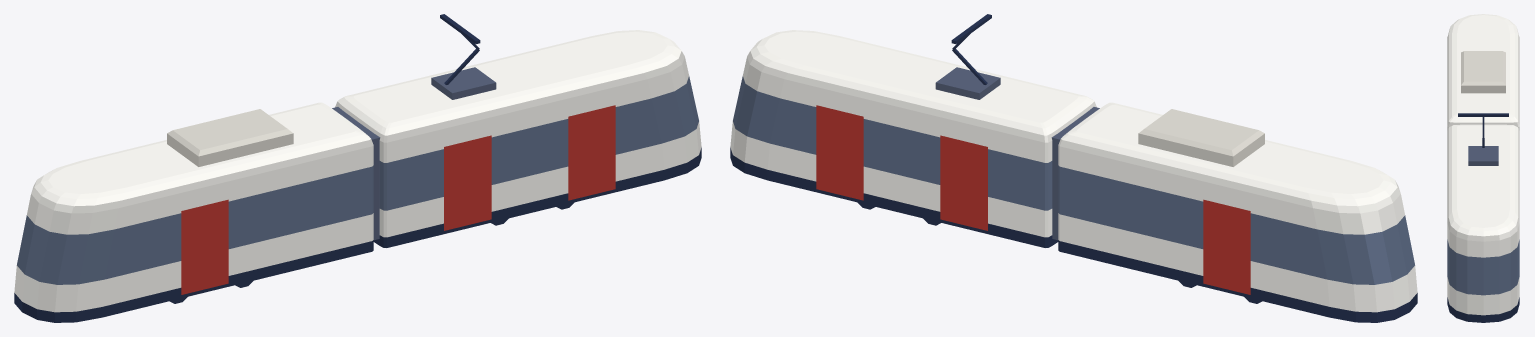
Rendered from tram.glb.
The picture shows the model from 3 angles, left to right: view 1: azimuth 30°, elevation 25°; view 2: azimuth 150°, elevation 25°; view 3: azimuth 270°, elevation 25°; orthographic projection. The views are drawn at different scales.
Parts seen in each view (by area): view 1: model; view 2: model; view 3: model.
Boxes of the visible parts, x1,y1,x2,y2 form: model: [14, 14, 701, 322]; model: [730, 14, 1417, 322]; model: [1447, 14, 1519, 322].
Size of the model in its own units: 18.4 by 4.96 by 2.46.
